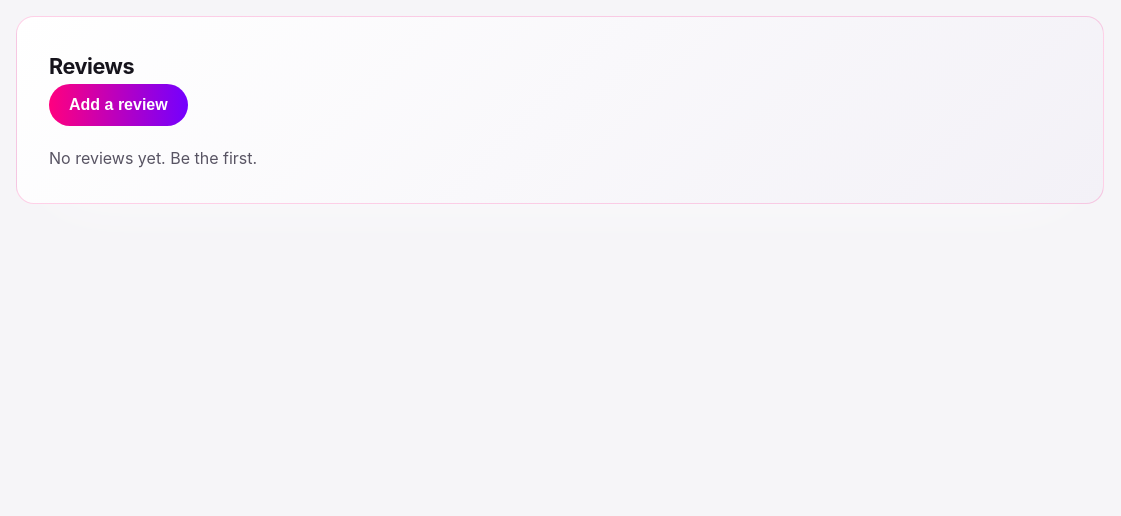
Test: composing a review › can be cancelled without posting
Click the button "Add a review" at (118, 104), box [49,84,188,126]
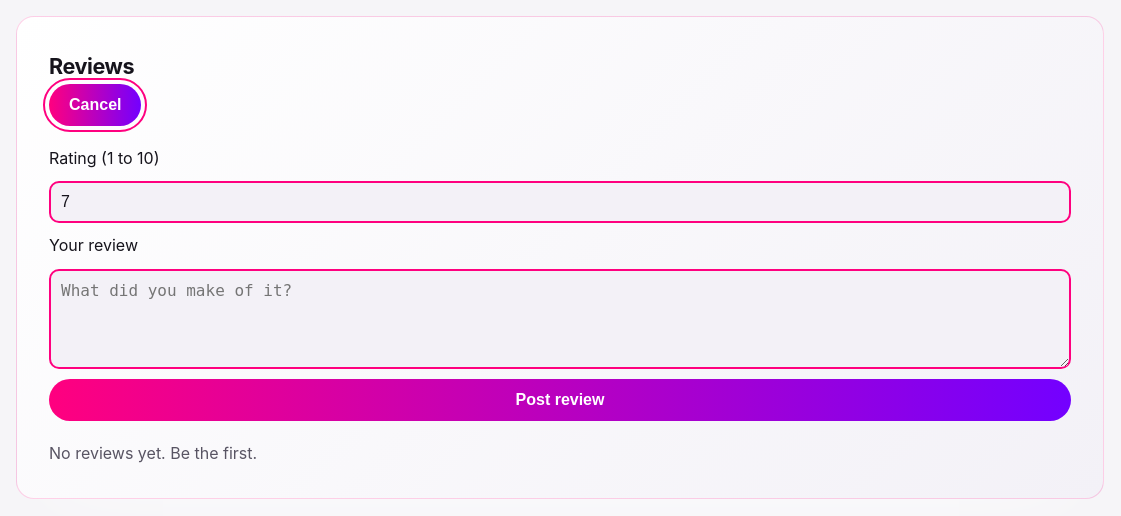
Click the button "Cancel" at (95, 104), box [49,84,142,126]
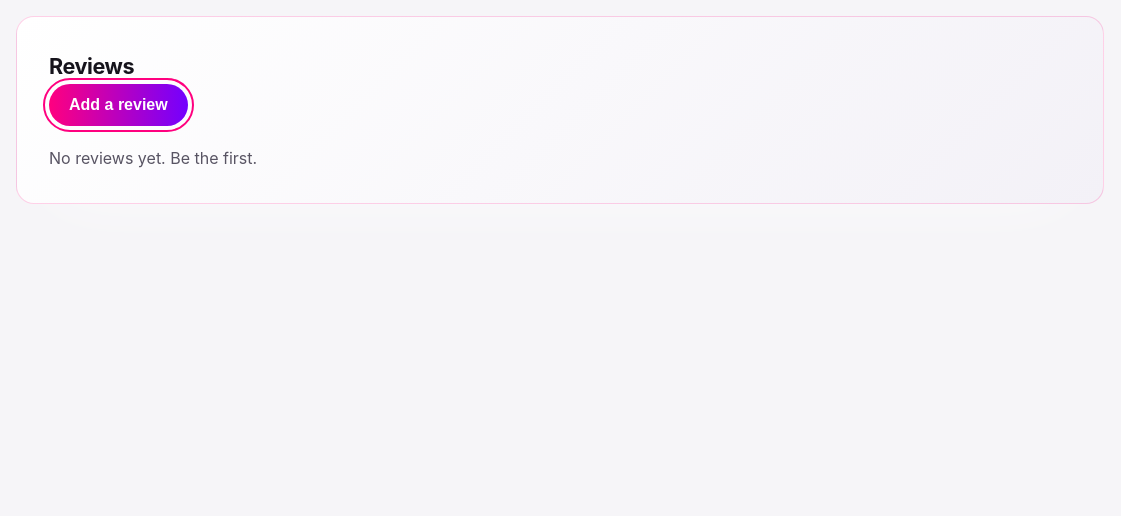
expect the label labelled "Your review" is gone: met
